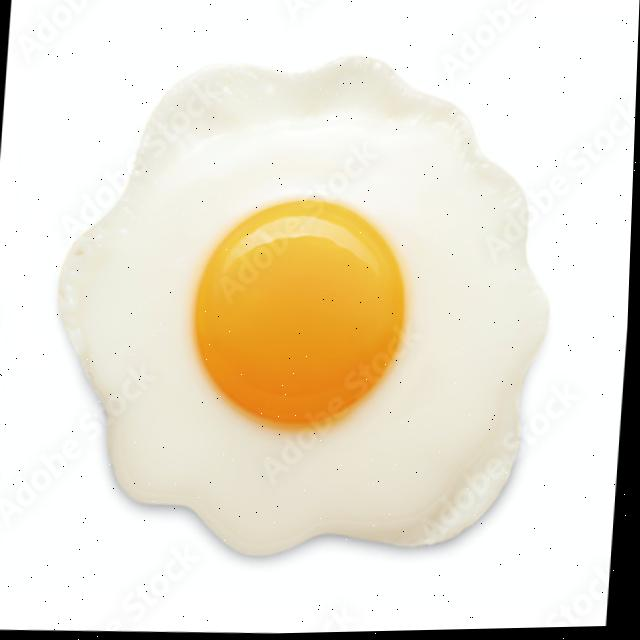Egg: (62, 60, 549, 554)
